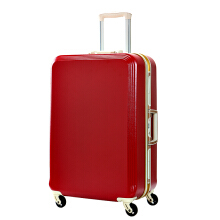luggage: (50, 13, 158, 218)
